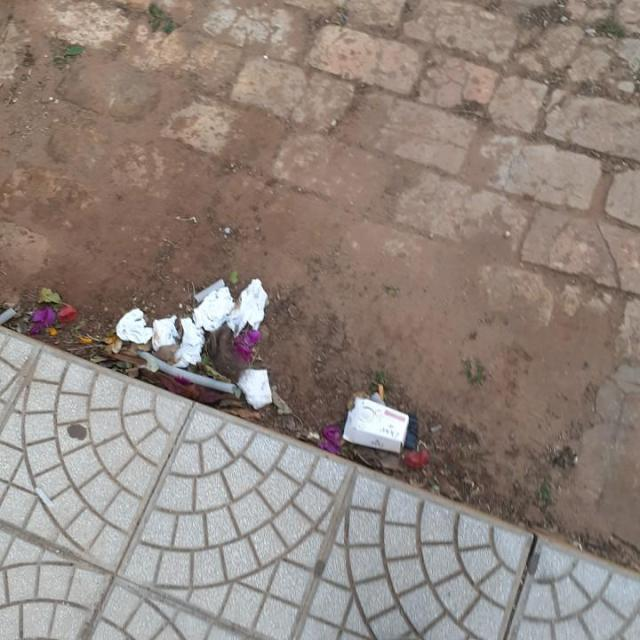litter: (343, 399, 409, 454)
